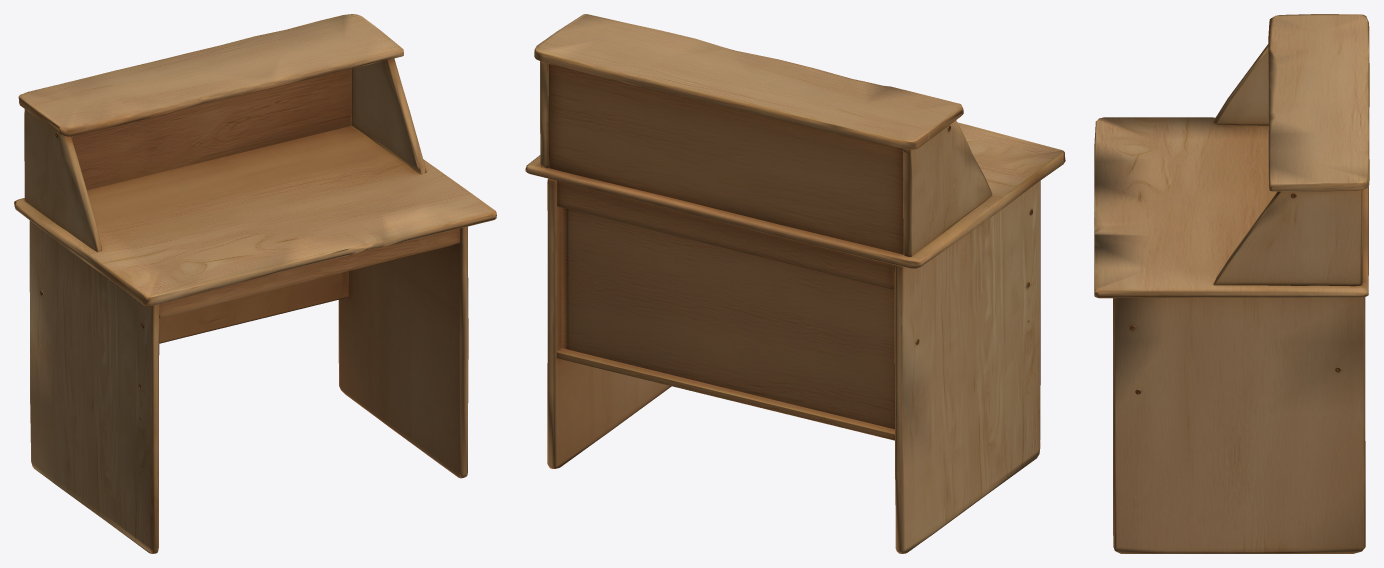
File: log-desk.glb
3 renders of one model, left to right at view 1: azimuth 30°, elevation 25°; view 2: azimuth 150°, elevation 25°; view 3: azimuth 270°, elevation 25°, orthographic. The views are drawn at different scales.
Parts seen in each view (by area): view 1: tripo_node_658f1495-92a3-4372-b67b-fbfad6233901; view 2: tripo_node_658f1495-92a3-4372-b67b-fbfad6233901; view 3: tripo_node_658f1495-92a3-4372-b67b-fbfad6233901.
Boxes of the visible parts, left/top/right/bottom form: tripo_node_658f1495-92a3-4372-b67b-fbfad6233901: left=14, top=14, right=496, bottom=553; tripo_node_658f1495-92a3-4372-b67b-fbfad6233901: left=525, top=14, right=1065, bottom=553; tripo_node_658f1495-92a3-4372-b67b-fbfad6233901: left=1094, top=14, right=1369, bottom=553.
Bounding box in the file's own units: 1.2 × 1.21 × 0.8.
Materials: 1 (1 with a texture image).
